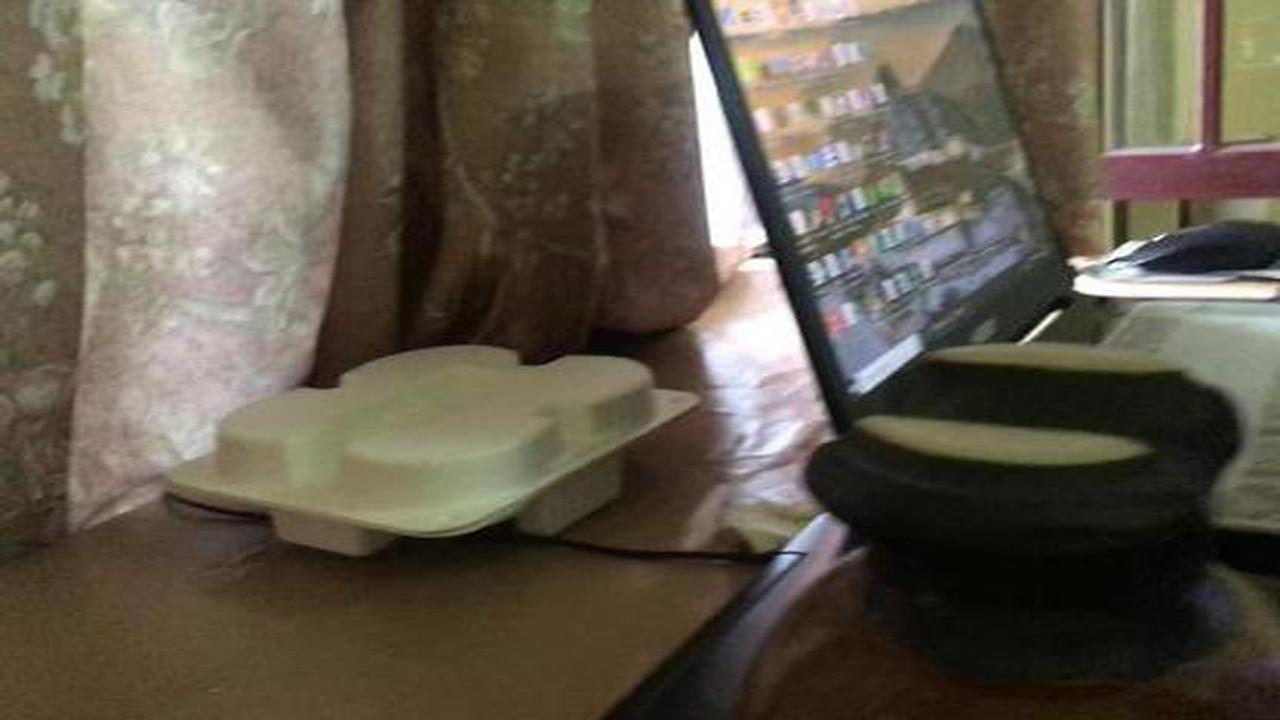insulator_pin: (721, 345, 1280, 717)
